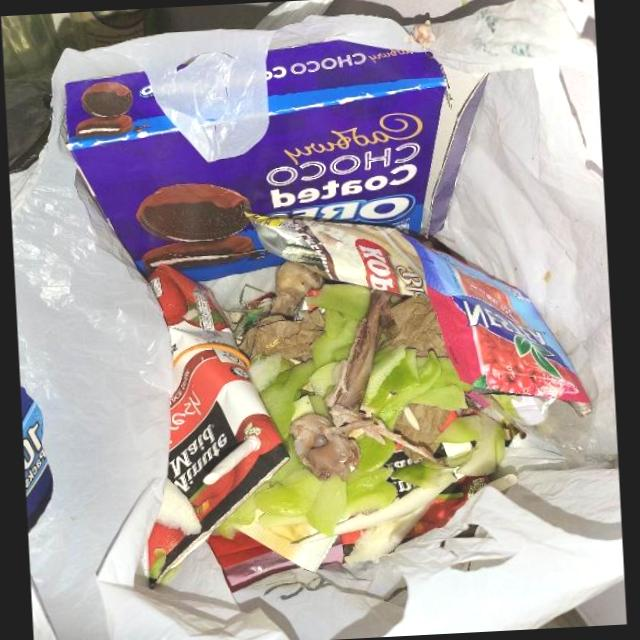carton: (63, 40, 447, 282)
goi_nhua_nho: (408, 237, 593, 418), (245, 213, 429, 299)
ong_hut_nhua: (203, 433, 262, 485)
vo_hop_sua: (148, 265, 290, 586)
vo_rau_cu: (217, 433, 399, 540), (250, 284, 371, 440), (290, 404, 420, 482), (361, 344, 473, 432), (436, 413, 506, 477), (392, 460, 457, 489)
